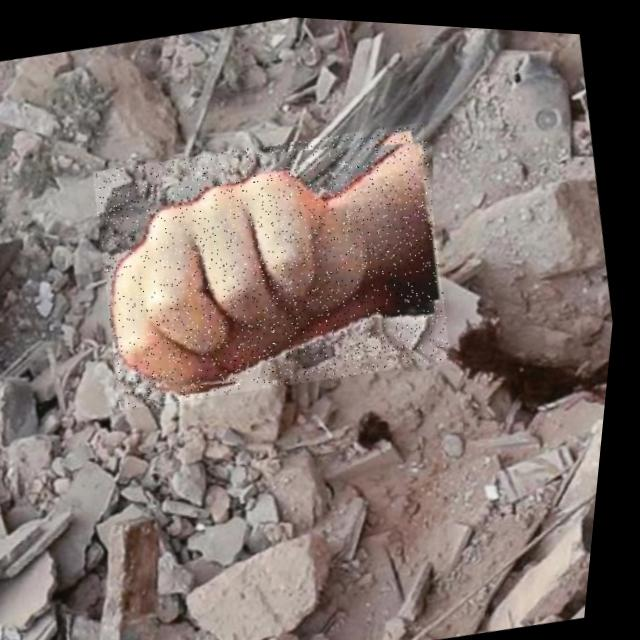Person in Rubble: (78, 100, 476, 422)
